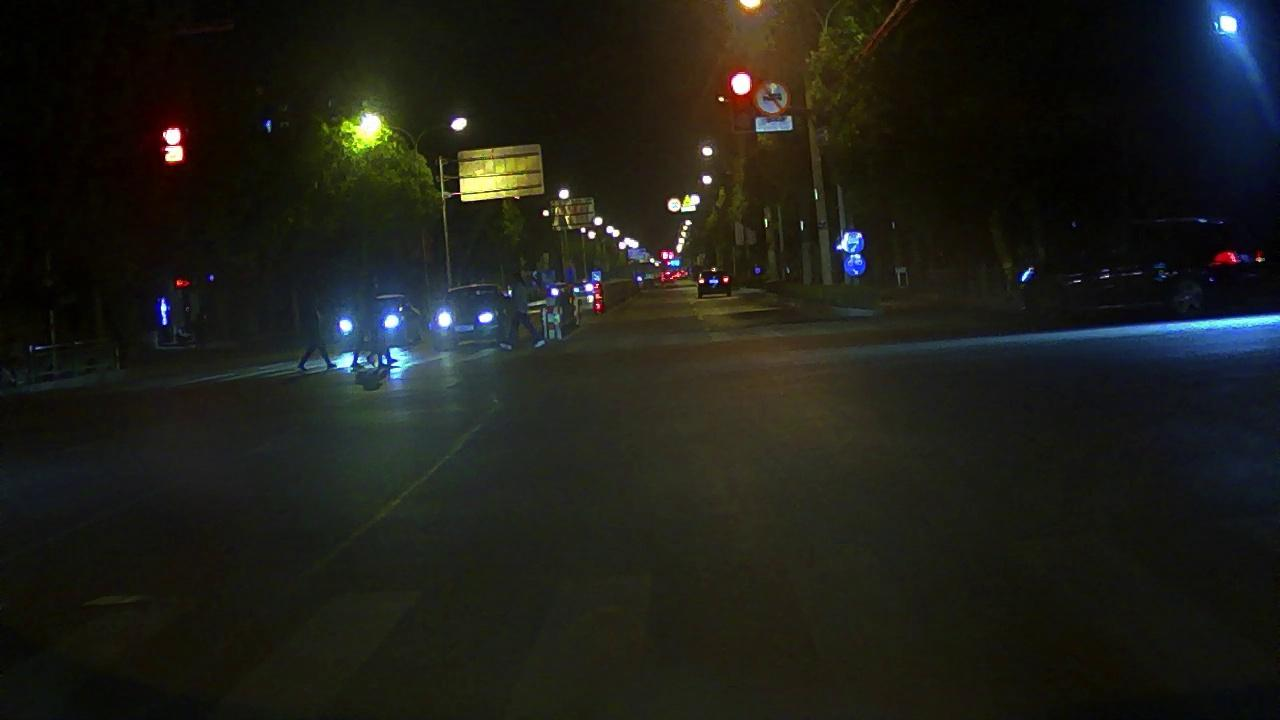traffic_light: (727, 68, 755, 124), (158, 120, 186, 167)
